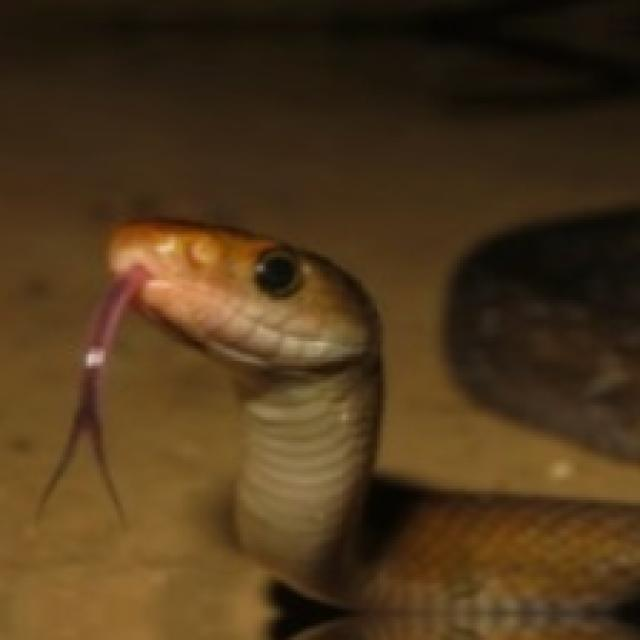reddish rat snake: (37, 220, 637, 637), (440, 209, 637, 469)
